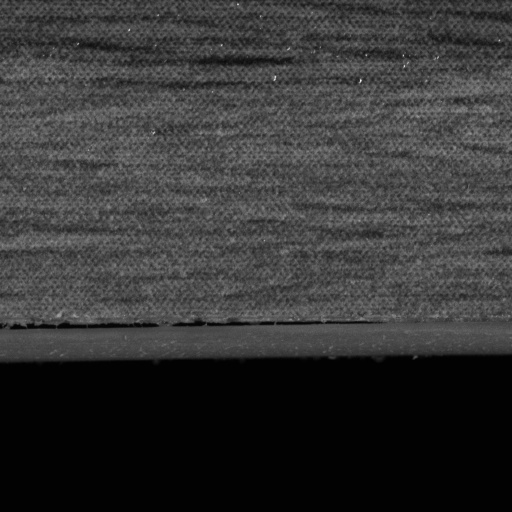jiaofeng: (4, 316, 384, 340)
